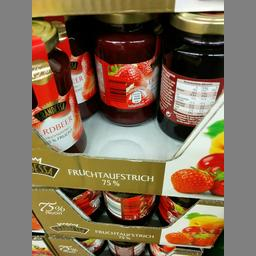jam: (154, 12, 223, 142), (92, 12, 162, 126), (30, 17, 84, 152)
